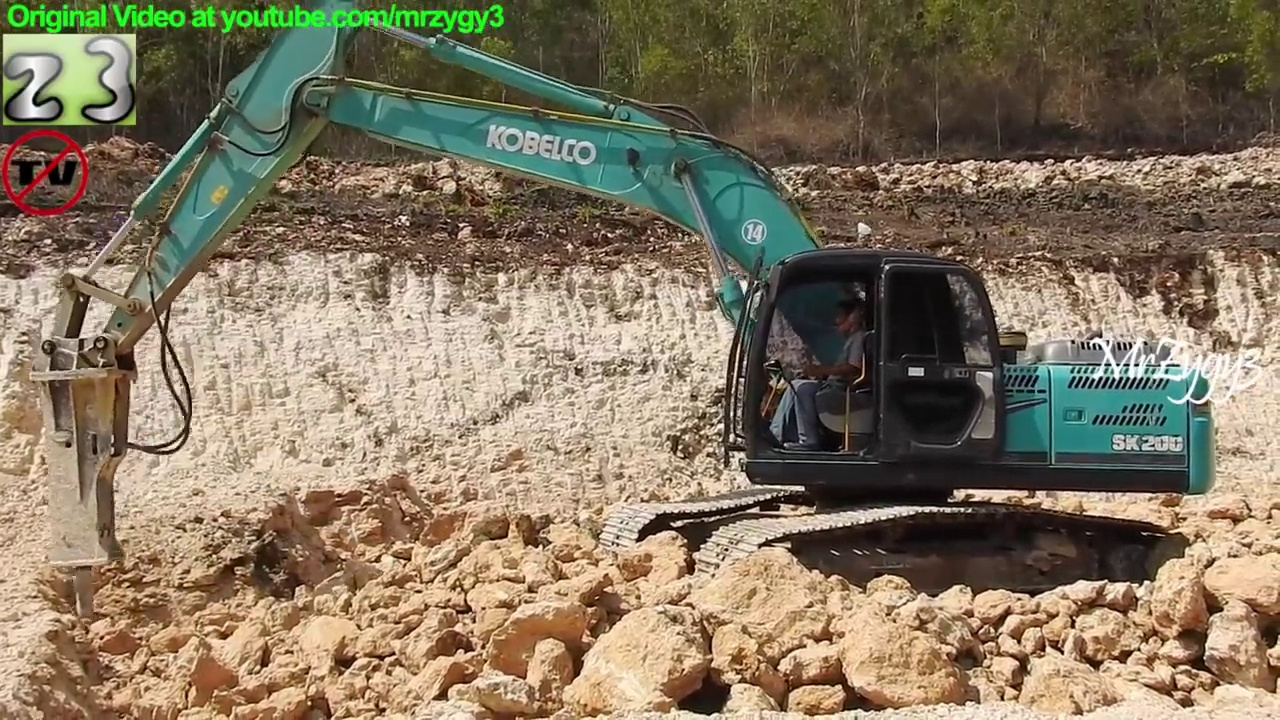excavator breaker: (26, 7, 1223, 628)
